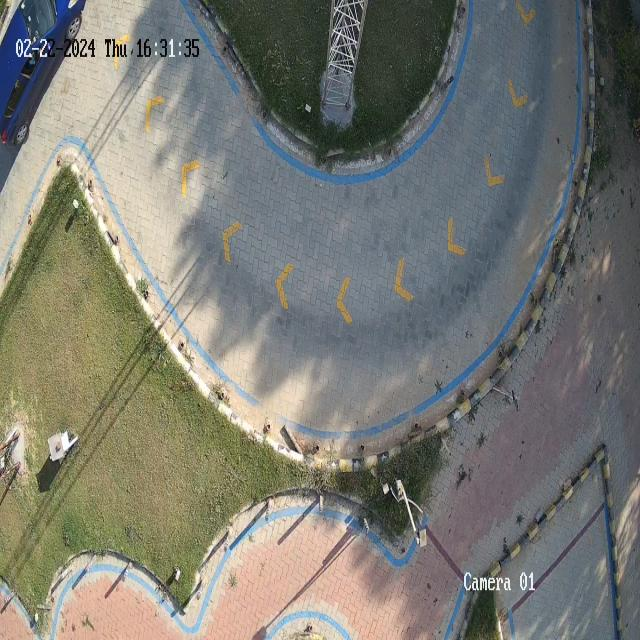car: (0, 0, 85, 147)
